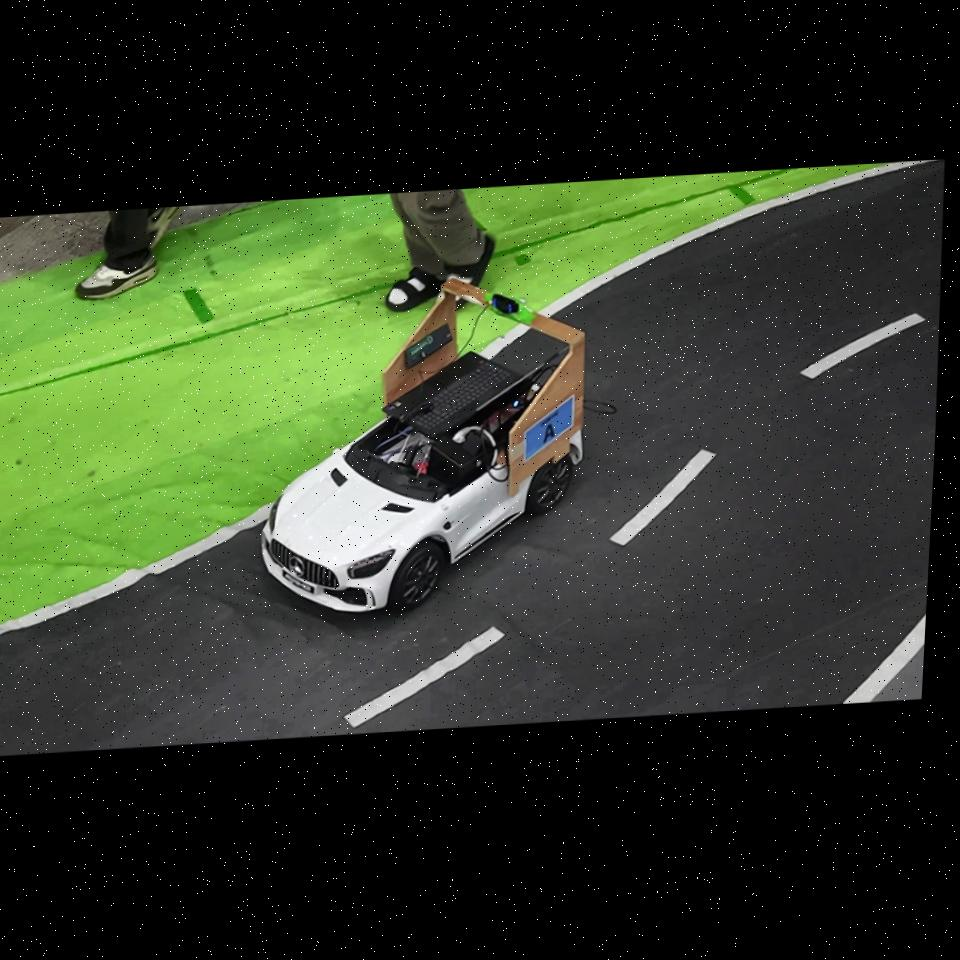broken_line: (344, 626, 505, 726), (610, 449, 717, 546), (801, 314, 924, 379)
